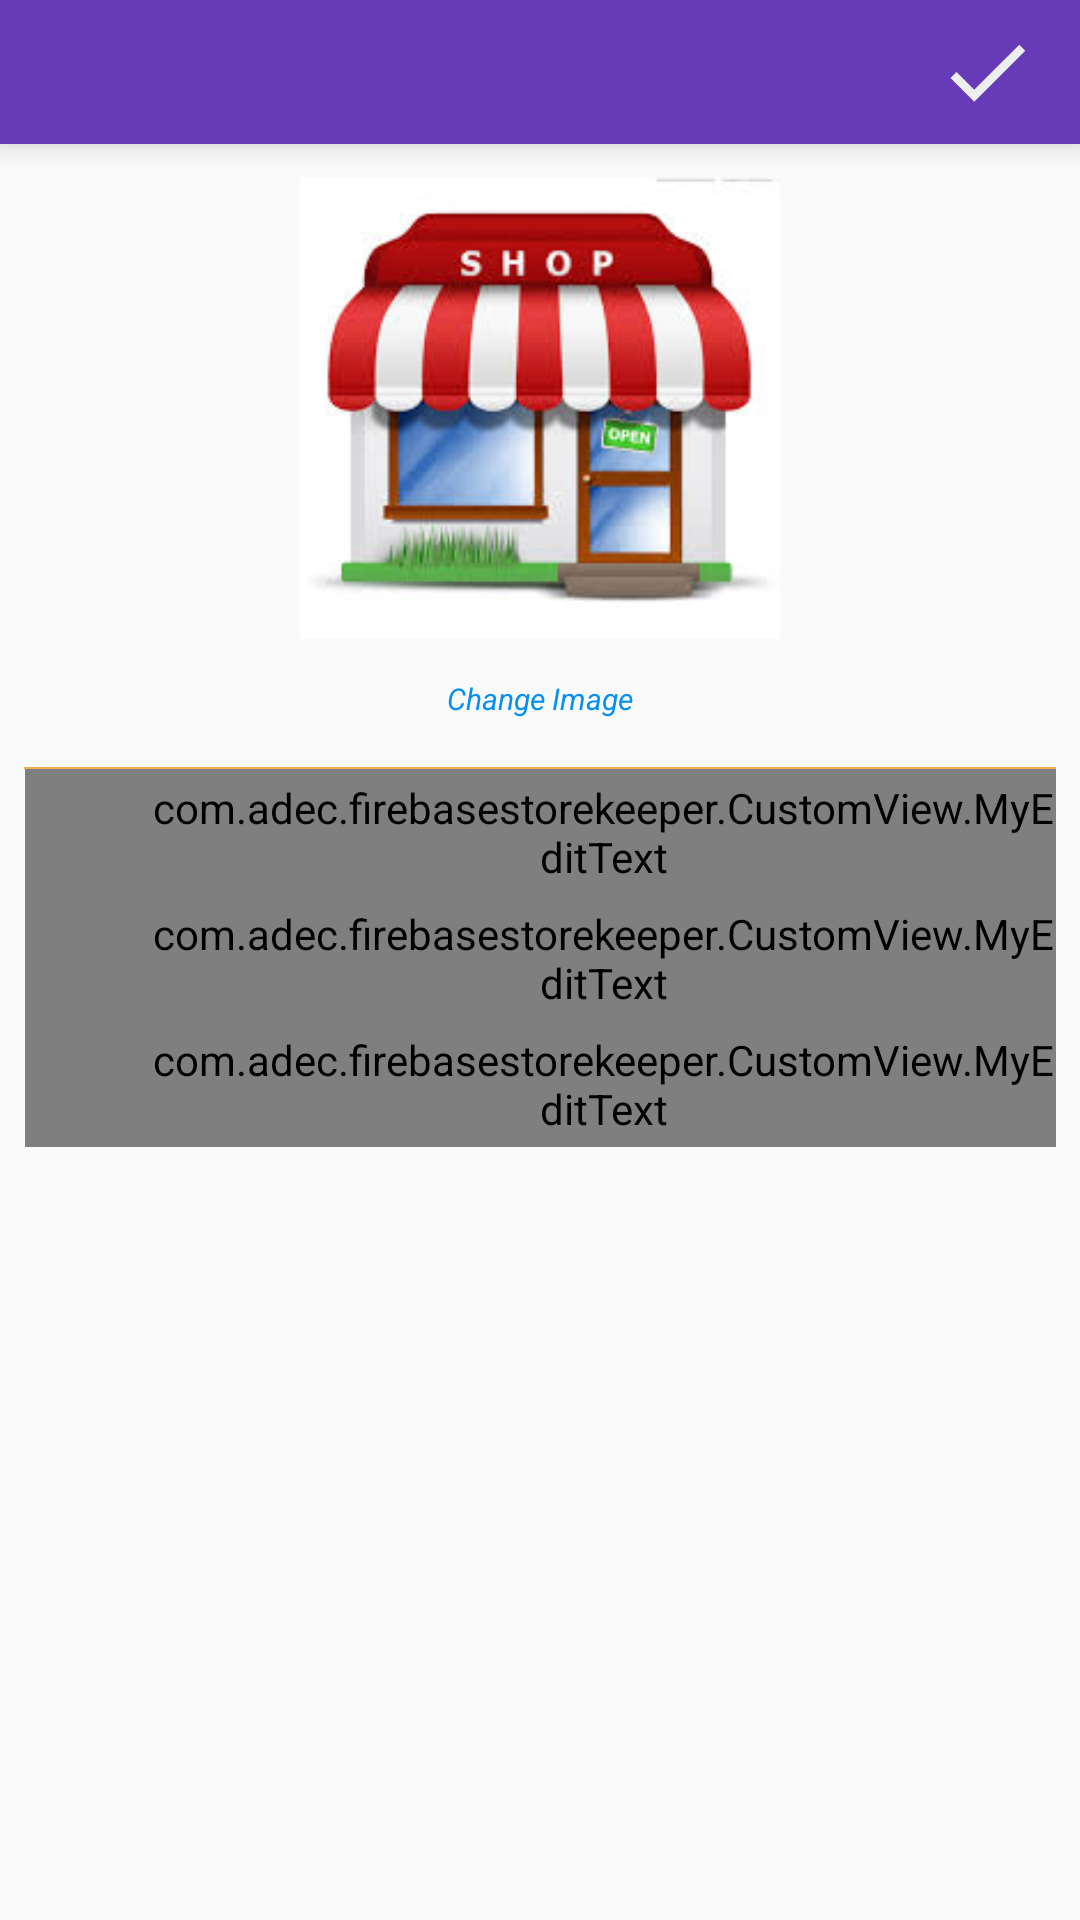

Screen size 1080 × 1920. Icon name, then its box in pixels as (x1, y1, x2, y2):
tick: (951, 45, 1025, 102)
